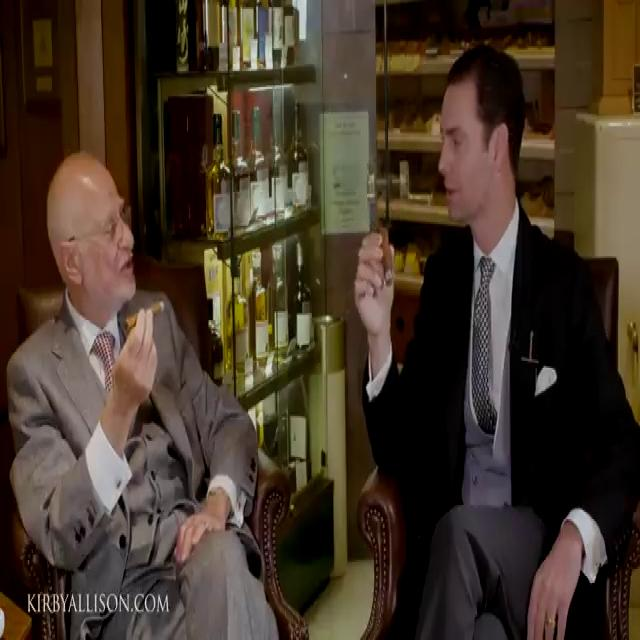Smooking: (112, 289, 172, 335), (376, 215, 400, 291)
